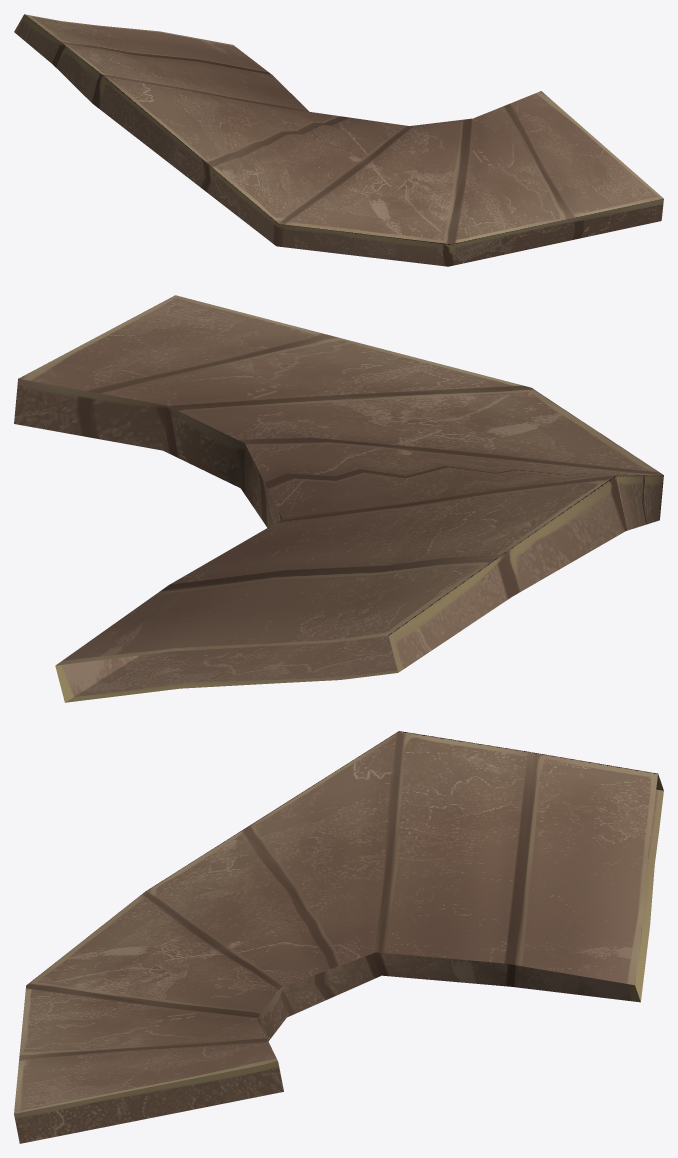
The model's file is kleinst draaibrugje.FBX.
The picture shows the model from 3 angles, top to bottom: view 1: azimuth 30°, elevation 25°; view 2: azimuth 150°, elevation 25°; view 3: azimuth 270°, elevation 25°; orthographic projection. The views are drawn at different scales.
Parts seen in each view (by area): view 1: Box009; view 2: Box009; view 3: Box009.
Part boxes in pixels (x1,y1,x2,y2): Box009: [14, 14, 663, 266]; Box009: [14, 295, 663, 702]; Box009: [14, 731, 663, 1143].
Bounding box in the file's own units: 26.79 × 8.24 × 29.24.
